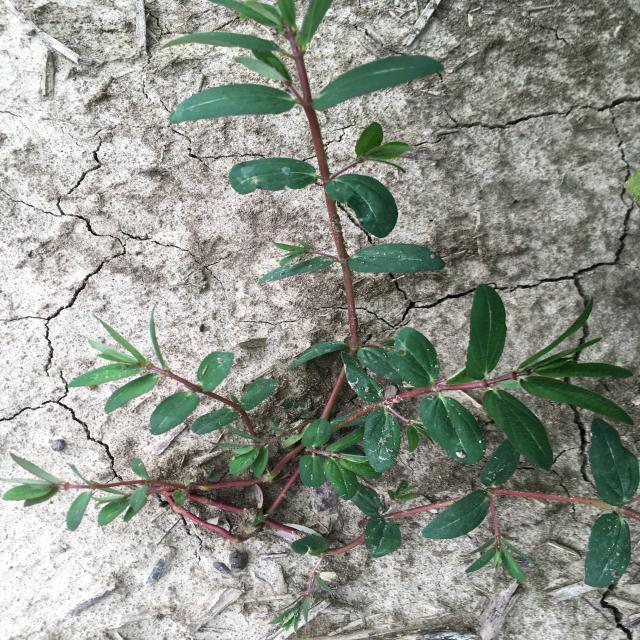SpottedSpurge: (0, 1, 639, 632)
